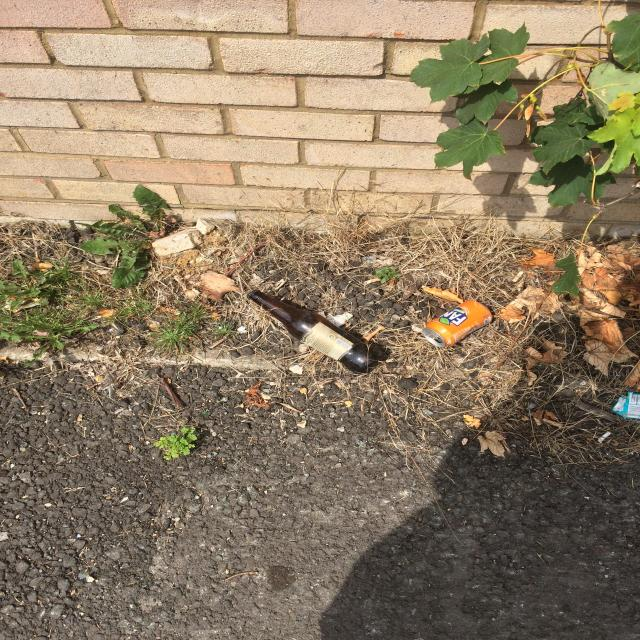litter: (248, 290, 381, 372), (426, 301, 493, 345), (612, 393, 638, 418), (598, 431, 611, 443)
